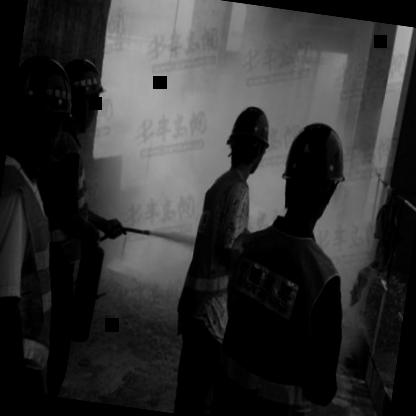helmet: (273, 112, 356, 235), (12, 47, 85, 160), (220, 98, 278, 180), (57, 48, 113, 130)
